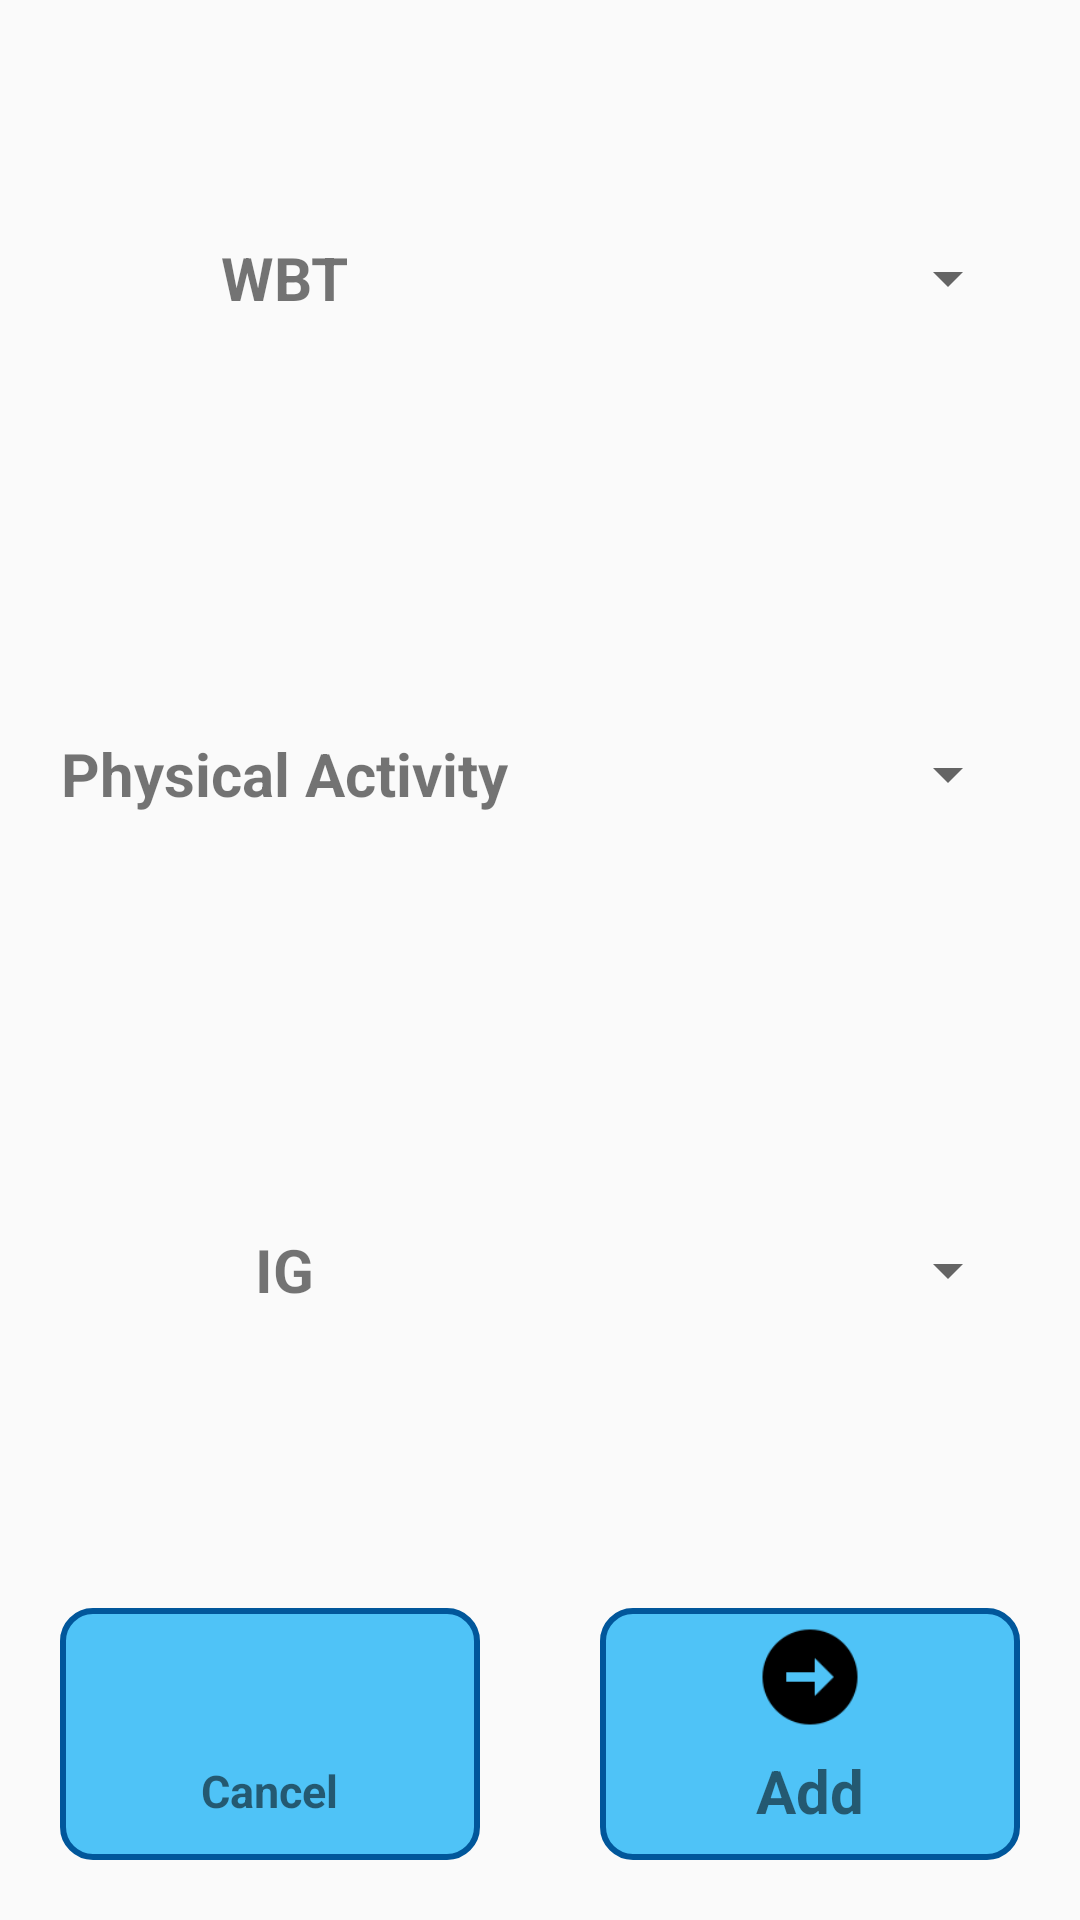

Where to tap for icons on this 1080 × 1920 app screen, as [x,y]:
icongoto: [810,1677]
